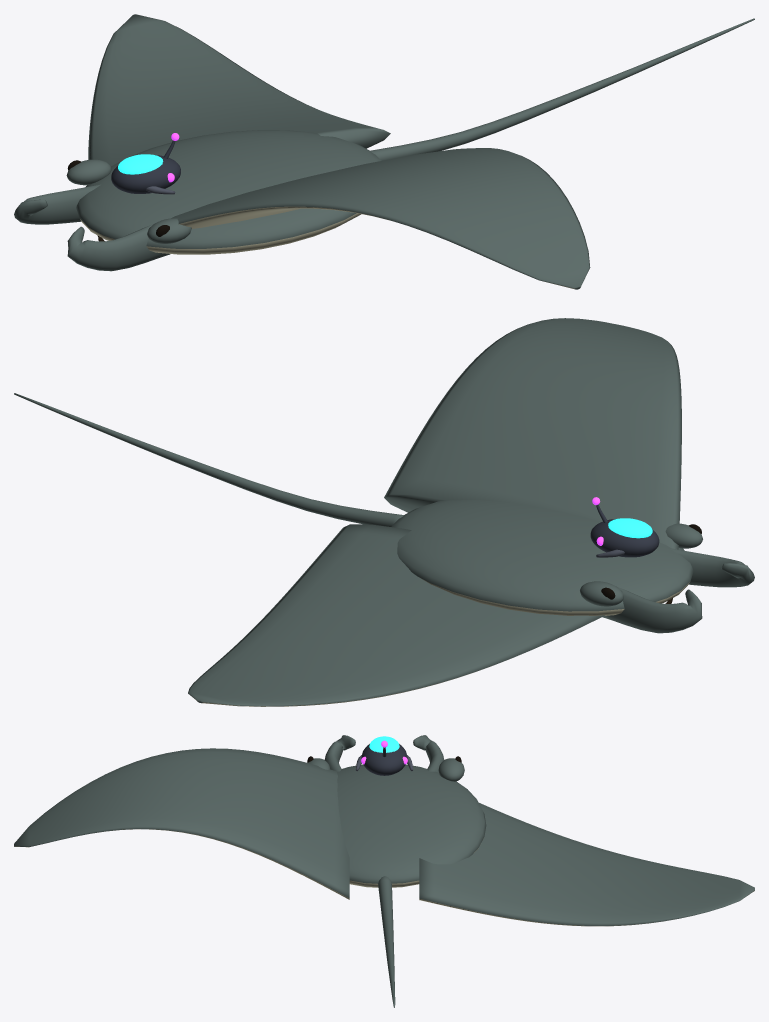
Rendered from controlled_manta_ray.glb.
3 views of the same model, one above another, from view 1: azimuth 30°, elevation 25°; view 2: azimuth 150°, elevation 25°; view 3: azimuth 270°, elevation 25° (orthographic). The views are drawn at different scales.
Visible parts, largest first — view 1: PectoralFin_L, PectoralFin_R, Body, NaturalTail, CephalicFin_L, CephalicFin_R, ControlShell, EyeSocket.001, EyeSocket, CyanLens; view 2: PectoralFin_L, PectoralFin_R, Body, NaturalTail, CephalicFin_R, CephalicFin_L, ControlShell, EyeSocket.001, CyanLens, EyeSocket; view 3: PectoralFin_L, PectoralFin_R, Body, NaturalTail, ControlShell, CephalicFin_R, CephalicFin_L, EyeSocket.001.
Part boxes in pixels (left/top/right/bottom): PectoralFin_L: left=171, top=148, right=590, bottom=289; PectoralFin_R: left=88, top=14, right=390, bottom=166; Body: left=76, top=130, right=381, bottom=254; NaturalTail: left=370, top=18, right=754, bottom=160; CephalicFin_L: left=67, top=224, right=170, bottom=271; CephalicFin_R: left=14, top=184, right=100, bottom=224; ControlShell: left=111, top=155, right=180, bottom=193; EyeSocket.001: left=66, top=159, right=111, bottom=185; EyeSocket: left=147, top=218, right=191, bottom=243; CyanLens: left=118, top=154, right=163, bottom=174; PectoralFin_L: left=384, top=318, right=681, bottom=549; PectoralFin_R: left=188, top=524, right=604, bottom=706; Body: left=391, top=500, right=693, bottom=615; NaturalTail: left=14, top=393, right=403, bottom=526; CephalicFin_R: left=602, top=587, right=702, bottom=633; CephalicFin_L: left=669, top=548, right=754, bottom=587; ControlShell: left=590, top=519, right=659, bottom=557; EyeSocket.001: left=580, top=581, right=623, bottom=606; CyanLens: left=608, top=518, right=652, bottom=538; EyeSocket: left=665, top=523, right=702, bottom=548; PectoralFin_L: left=14, top=748, right=349, bottom=899; PectoralFin_R: left=419, top=803, right=754, bottom=926; Body: left=337, top=764, right=486, bottom=887; NaturalTail: left=378, top=876, right=395, bottom=1007; ControlShell: left=361, top=744, right=407, bottom=775; CephalicFin_R: left=413, top=735, right=444, bottom=772; CephalicFin_L: left=324, top=735, right=355, bottom=771; EyeSocket.001: left=438, top=758, right=464, bottom=781.
Bounding box in the file's own units: 3 × 0.5263 × 3.2.
